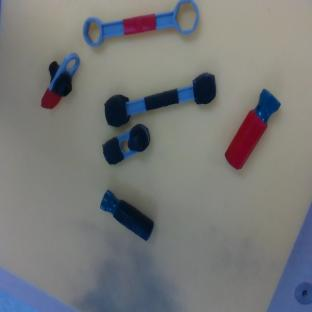part_1_bad: (98, 121, 155, 167)
part_1_good: (36, 47, 83, 114)
part_2_bad: (96, 189, 158, 241)
part_2_good: (219, 88, 284, 171)
part_3_bad: (101, 70, 220, 129)
